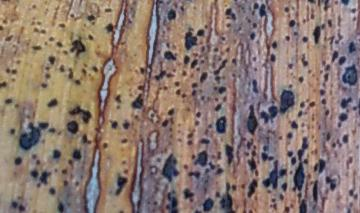tarspot: (20, 121, 49, 150), (219, 183, 236, 213), (262, 159, 278, 189), (163, 153, 178, 180), (70, 105, 92, 123), (247, 104, 258, 134), (280, 90, 295, 112), (342, 65, 358, 85), (294, 162, 305, 191), (70, 38, 86, 57), (166, 190, 178, 213), (115, 174, 128, 195), (298, 136, 309, 159), (184, 31, 197, 50), (213, 58, 228, 74), (194, 151, 208, 166), (225, 143, 234, 166), (66, 119, 79, 134), (247, 178, 257, 197), (132, 93, 143, 110), (216, 116, 227, 133), (225, 7, 237, 22), (39, 171, 51, 185), (203, 198, 214, 212), (269, 105, 278, 121), (313, 26, 321, 44), (313, 178, 319, 202), (163, 50, 176, 61), (341, 96, 352, 109), (183, 187, 195, 198), (247, 156, 257, 169), (155, 70, 166, 81), (260, 111, 270, 123), (318, 158, 326, 173), (251, 80, 259, 94), (259, 4, 267, 17), (331, 51, 339, 64), (105, 23, 114, 34), (325, 174, 336, 183), (67, 66, 74, 80), (300, 199, 307, 213), (200, 71, 208, 83), (301, 54, 309, 66), (279, 166, 287, 178), (188, 171, 200, 179), (335, 33, 344, 43), (30, 169, 39, 179), (73, 148, 81, 159), (168, 9, 176, 20), (349, 41, 356, 53), (48, 98, 57, 107), (52, 149, 61, 158), (251, 1, 260, 10), (339, 113, 348, 122), (10, 200, 19, 209), (48, 55, 56, 65), (14, 156, 22, 166), (122, 120, 130, 130), (339, 55, 347, 65), (199, 137, 210, 144), (247, 138, 254, 149), (325, 131, 332, 142), (323, 1, 330, 12), (280, 181, 287, 192), (48, 127, 57, 135), (214, 102, 222, 111), (342, 134, 350, 143), (290, 120, 298, 129), (81, 68, 88, 78), (191, 59, 198, 69), (346, 158, 353, 168), (31, 45, 42, 51), (82, 133, 88, 144), (161, 119, 169, 127), (48, 187, 56, 195), (92, 64, 99, 73), (218, 86, 227, 93), (261, 152, 268, 161), (323, 73, 330, 82), (184, 55, 190, 65), (337, 138, 343, 148), (329, 34, 334, 46), (87, 14, 95, 21), (58, 22, 66, 29), (137, 84, 145, 91), (197, 29, 205, 36), (215, 76, 222, 84), (287, 150, 294, 158), (309, 100, 316, 108), (270, 203, 278, 210), (253, 169, 260, 177), (19, 205, 27, 212), (58, 202, 63, 213), (59, 64, 65, 73), (104, 7, 113, 13), (166, 72, 175, 78), (175, 87, 181, 96), (209, 161, 215, 170), (313, 163, 319, 172), (289, 18, 295, 27), (302, 34, 308, 43), (13, 103, 20, 110), (6, 35, 13, 42), (2, 18, 9, 25), (111, 121, 118, 128), (102, 142, 109, 149), (174, 80, 181, 87), (287, 63, 294, 70), (262, 145, 269, 152), (268, 154, 275, 161), (319, 89, 326, 96), (1, 81, 7, 89), (5, 98, 13, 104), (74, 79, 82, 85), (49, 35, 55, 43), (67, 158, 73, 166), (186, 140, 194, 146), (250, 32, 256, 40), (298, 75, 304, 83), (321, 97, 327, 105), (327, 19, 333, 27), (348, 188, 354, 196), (215, 190, 221, 198), (216, 169, 224, 175), (140, 66, 145, 75), (270, 53, 275, 62), (9, 129, 16, 135), (41, 82, 47, 89), (45, 73, 51, 80), (63, 49, 69, 56), (56, 41, 63, 47), (33, 27, 40, 33), (121, 137, 128, 143), (168, 108, 174, 115), (195, 112, 202, 118), (187, 133, 194, 139), (194, 119, 200, 126), (212, 47, 219, 53), (222, 95, 228, 102), (252, 22, 258, 29), (284, 6, 290, 13), (287, 82, 293, 89), (242, 135, 248, 142), (250, 150, 257, 156), (287, 132, 293, 139), (330, 183, 336, 190), (284, 207, 291, 213), (231, 185, 238, 191), (116, 95, 121, 103), (191, 89, 196, 97), (201, 45, 206, 53), (291, 157, 296, 165), (337, 121, 342, 129), (326, 63, 331, 71), (310, 13, 315, 21), (308, 1, 316, 6), (342, 1, 350, 6), (354, 193, 359, 201), (298, 192, 302, 202), (280, 193, 285, 201), (12, 69, 18, 75), (40, 28, 46, 34), (32, 154, 38, 160), (181, 93, 187, 99), (193, 52, 199, 58), (218, 151, 222, 160), (244, 151, 250, 157), (299, 102, 305, 108), (321, 60, 327, 66), (351, 7, 357, 13), (240, 183, 246, 189), (204, 167, 210, 173), (123, 168, 129, 174), (63, 180, 69, 186), (88, 34, 93, 41), (163, 84, 168, 91), (200, 94, 205, 101), (191, 153, 196, 160), (231, 58, 236, 65), (297, 110, 302, 117), (324, 109, 329, 116), (300, 121, 305, 128), (194, 209, 202, 213), (60, 169, 68, 173), (6, 68, 11, 74), (44, 65, 50, 70), (44, 41, 49, 47), (37, 20, 42, 26), (31, 3, 36, 9), (180, 6, 185, 12), (182, 70, 187, 76), (192, 83, 198, 88), (214, 97, 219, 103), (208, 123, 213, 129), (184, 164, 189, 170), (231, 72, 236, 78), (225, 47, 230, 53), (226, 22, 231, 28), (247, 18, 252, 24), (251, 11, 257, 16), (278, 134, 283, 140), (319, 70, 325, 75), (284, 36, 290, 41), (289, 169, 294, 175), (177, 138, 183, 143), (163, 147, 168, 153), (273, 41, 277, 48), (293, 32, 300, 36), (54, 166, 58, 173), (16, 60, 21, 65), (91, 21, 96, 26), (70, 13, 75, 18), (31, 21, 36, 26), (186, 107, 191, 112), (213, 86, 218, 91), (252, 56, 257, 61), (332, 143, 337, 148), (353, 106, 358, 111), (302, 18, 307, 23), (271, 198, 276, 203), (249, 208, 254, 213), (189, 198, 194, 203), (75, 181, 80, 186), (177, 130, 182, 135), (11, 78, 17, 82), (36, 159, 40, 165), (135, 114, 139, 120), (150, 112, 154, 118), (167, 43, 171, 49), (158, 1, 164, 5), (240, 7, 246, 11), (303, 159, 309, 163), (307, 68, 311, 74), (349, 200, 353, 206), (119, 209, 125, 213), (169, 133, 173, 139), (317, 124, 321, 130), (116, 105, 120, 110), (122, 160, 126, 165), (157, 50, 162, 54), (197, 67, 201, 72), (201, 60, 205, 65), (204, 24, 208, 29), (222, 36, 226, 41), (254, 67, 258, 72), (253, 144, 257, 149), (346, 108, 350, 113), (321, 24, 326, 28), (334, 1, 339, 5), (353, 16, 357, 21), (347, 208, 351, 213), (268, 189, 272, 194), (153, 201, 158, 205), (169, 127, 173, 132), (177, 123, 182, 127), (1, 25, 4, 31), (37, 182, 41, 186)
